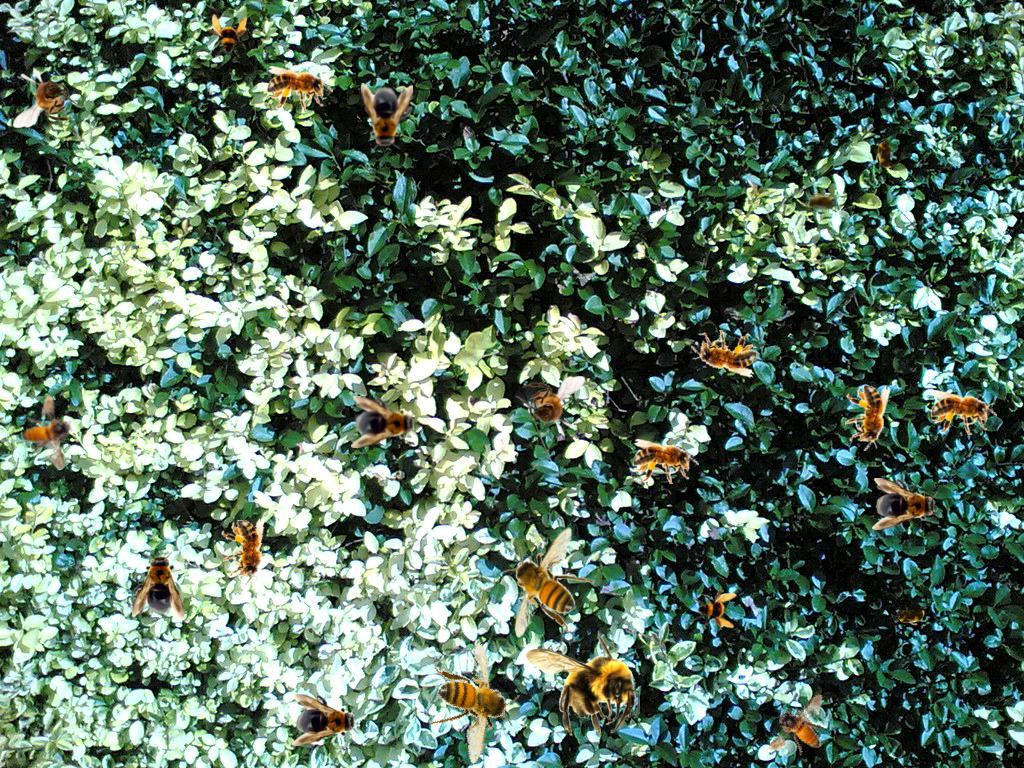Bee: (407, 635, 538, 768), (525, 630, 640, 737), (501, 527, 595, 638), (755, 692, 841, 767), (15, 390, 81, 471), (515, 376, 585, 437), (13, 67, 83, 128), (218, 517, 272, 588), (689, 327, 759, 378), (292, 694, 360, 746), (872, 478, 940, 530), (361, 83, 413, 151), (351, 396, 419, 448), (132, 551, 184, 619), (931, 390, 997, 435), (633, 439, 699, 484), (267, 66, 333, 111), (845, 385, 890, 451), (693, 586, 737, 630), (205, 14, 249, 58), (875, 134, 897, 174), (801, 192, 841, 214), (890, 604, 930, 626)
